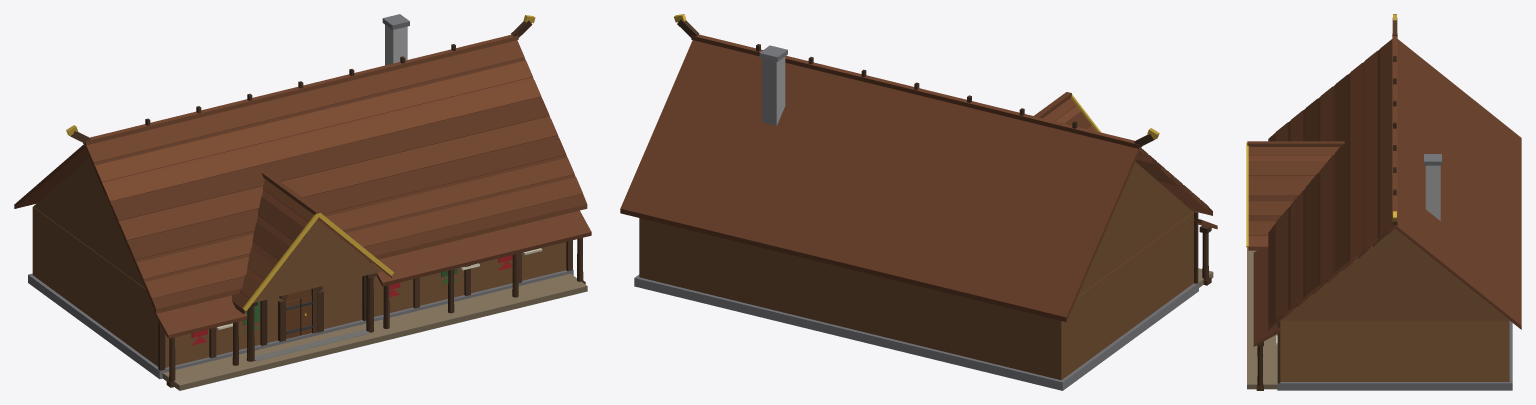
File: elders_hall.glb
The picture shows the model from 3 angles, left to right: view 1: azimuth 30°, elevation 25°; view 2: azimuth 150°, elevation 25°; view 3: azimuth 270°, elevation 25°; orthographic projection. The views are drawn at different scales.
Parts seen in each view (by area): view 1: elders_hall_body, elders_hall_ground; view 2: elders_hall_body; view 3: elders_hall_body, elders_hall_ground.
Part boxes in pixels (<box>): elders_hall_body: <box>14,14,591,387</box>; elders_hall_ground: <box>162,273,587,390</box>; elders_hall_body: <box>620,14,1217,390</box>; elders_hall_body: <box>1246,14,1521,390</box>; elders_hall_ground: <box>1247,247,1277,389</box>.
Bounding box in the file's own units: 26.76 × 11.85 × 15.27.
